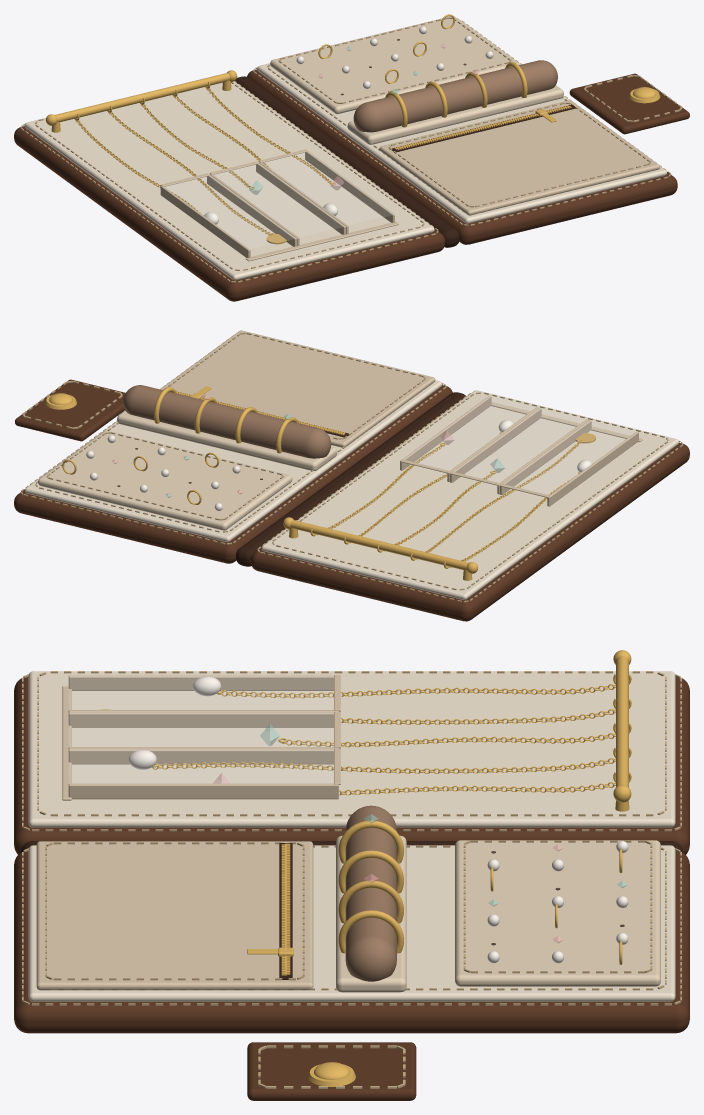
The picture shows the model from 3 angles, top to bottom: view 1: azimuth 30°, elevation 25°; view 2: azimuth 150°, elevation 25°; view 3: azimuth 270°, elevation 25°; orthographic projection. The views are drawn at different scales.
Visible parts, largest first — view 1: Left panel lining, Page, Pad, Left panel shell, Right panel shell, Roll, Right panel lining, Closure tab, Spine, Roll base, Chain (×3), Bar (+12 smaller); view 2: Left panel lining, Page, Pad, Left panel shell, Right panel shell, Right panel lining, Roll, Closure tab, Spine, Roll base, Bar, Left panel lining stitching (+11 smaller); view 3: Left panel lining, Page, Pad, Right panel shell, Right panel lining, Left panel shell, Closure tab, Chain (×5), Roll, Pocket 3 side 2, Pocket 2 side 1, Pocket 3 side 1 (+18 smaller).
Boxes of the visible parts, x1,y1,x2,y2 form: Left panel lining: (24, 81, 434, 280); Page: (379, 100, 659, 215); Pad: (270, 16, 519, 113); Left panel shell: (14, 126, 445, 301); Right panel shell: (247, 69, 677, 244); Roll: (353, 60, 557, 132); Right panel lining: (257, 18, 666, 223); Closure tab: (569, 73, 689, 134); Spine: (235, 76, 459, 247); Roll base: (347, 85, 563, 144); Chain (×3): (108, 86, 333, 235); Bar: (55, 73, 229, 122); Left panel lining: (261, 390, 679, 599); Page: (160, 330, 435, 447); Pad: (38, 430, 292, 530); Left panel shell: (250, 443, 689, 621); Right panel shell: (14, 385, 452, 563); Right panel lining: (24, 380, 442, 542); Roll: (123, 385, 331, 458); Closure tab: (15, 379, 125, 441); Spine: (236, 392, 465, 566); Roll base: (117, 410, 337, 470); Bar: (290, 520, 468, 569); Left panel lining stitching: (272, 392, 668, 590); Left panel lining: (28, 671, 675, 827); Page: (36, 841, 313, 990); Pad: (455, 840, 660, 986); Right panel shell: (14, 851, 689, 1033); Right panel lining: (28, 845, 675, 1001); Left panel shell: (14, 677, 689, 854); Closure tab: (247, 1042, 416, 1100); Chain (×5): (152, 684, 615, 795); Roll: (345, 805, 396, 981); Pocket 3 side 2: (68, 783, 338, 799); Pocket 2 side 1: (68, 712, 333, 727); Pocket 3 side 1: (68, 748, 333, 764).
Size of the model in its own units: 0.2955 by 0.0336 by 0.21.
